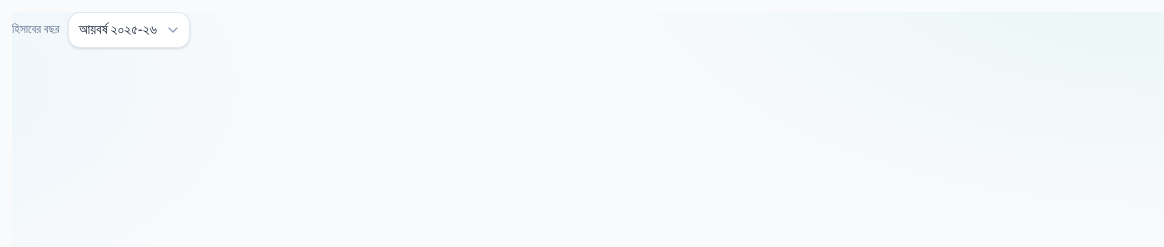
Test: Select › opens on click and marks the current option selected
What coordinates should you click on to do the following:
click the dropdown named "হিসাবের বছর"
I would click on:
 (129, 30)
Its box is [68,12,190,48].
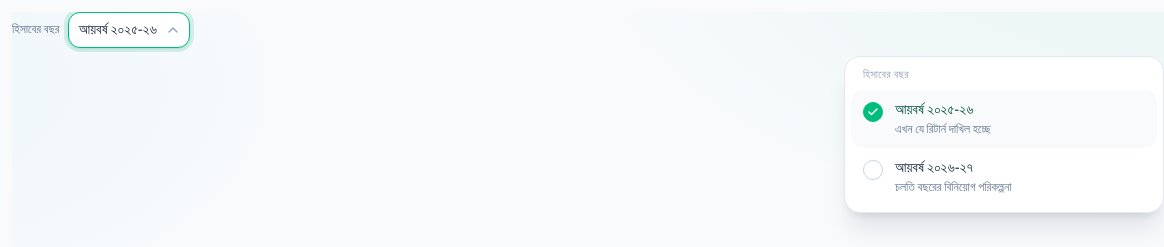
Result: the dropdown named "হিসাবের বছর" is expanded at [68,12,190,48]
